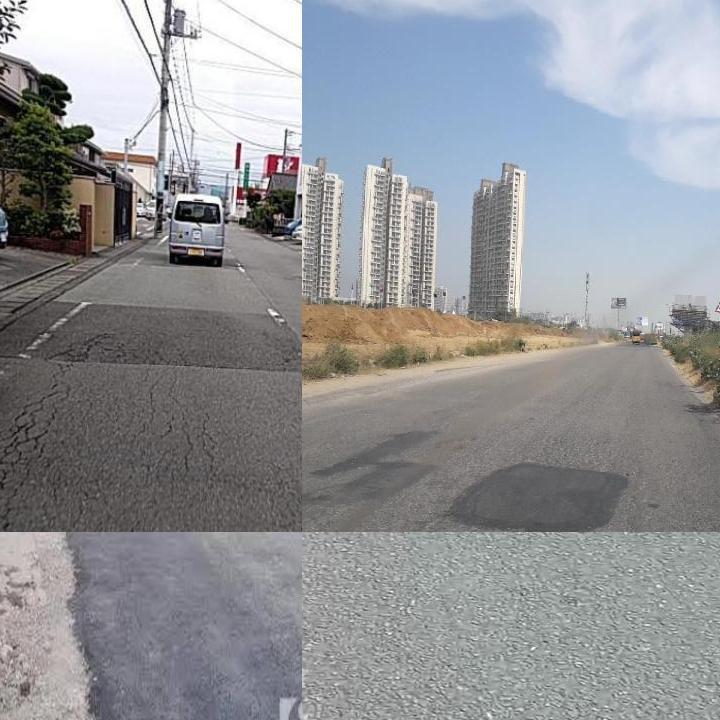Retak Buaya: (0, 386, 77, 532)
Sambungan: (68, 532, 302, 720), (0, 299, 302, 375), (445, 457, 628, 532)
